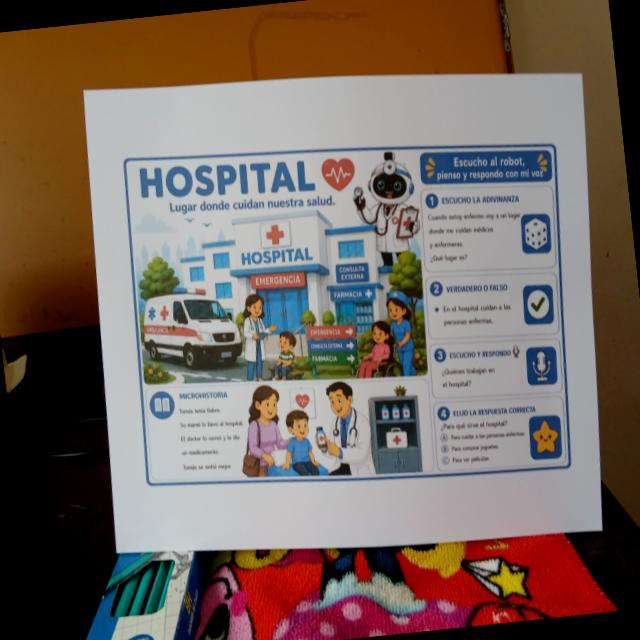hospital: (108, 108, 592, 517)
